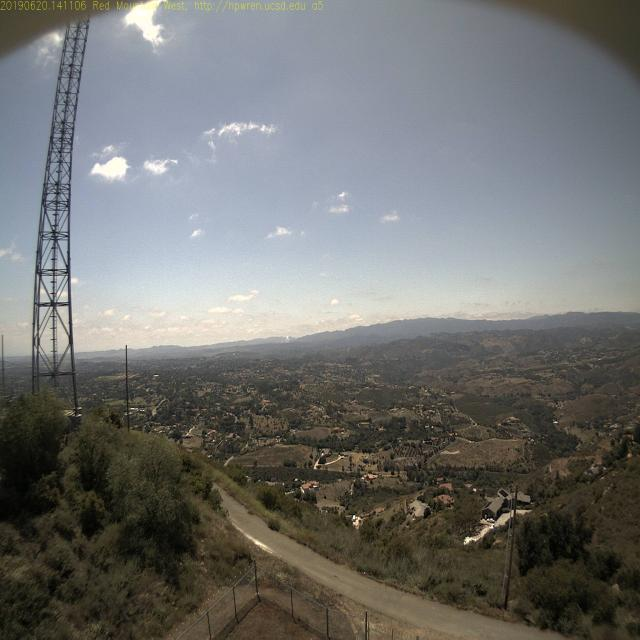smoke: (278, 330, 298, 351)
